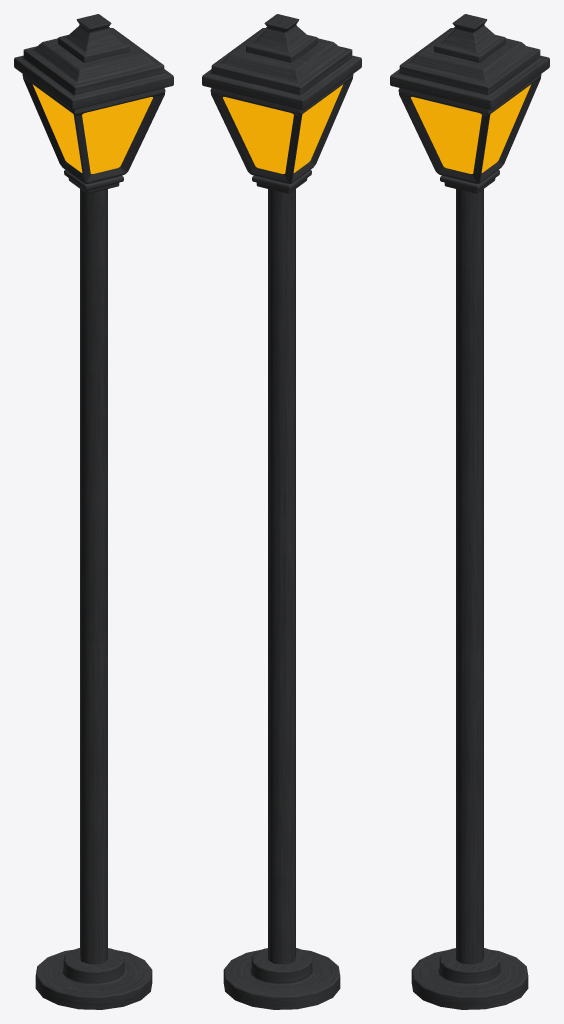
The model's file is lamp0.glb.
The picture shows the model from 3 angles, left to right: view 1: azimuth 30°, elevation 25°; view 2: azimuth 150°, elevation 25°; view 3: azimuth 330°, elevation 25°; orthographic projection.
Visible parts, largest first — view 1: Classic Single Street Lamp; view 2: Classic Single Street Lamp; view 3: Classic Single Street Lamp.
Boxes of the visible parts, left/top/right/bottom form: Classic Single Street Lamp: left=14, top=14, right=173, bottom=1009; Classic Single Street Lamp: left=202, top=14, right=361, bottom=1009; Classic Single Street Lamp: left=390, top=14, right=549, bottom=1009.
Bounding box in the file's own units: 0.2 × 1.8 × 0.2.
Materials: 2 (1 with a texture image).
